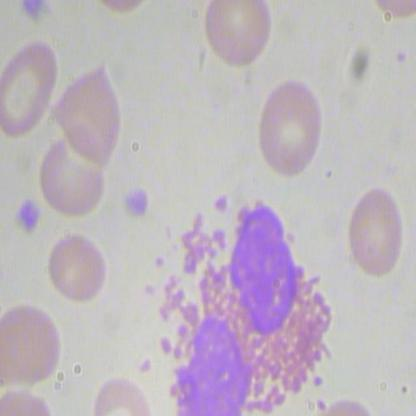Platelets: (12, 196, 46, 236), (118, 185, 151, 219), (20, 1, 47, 24)
RBC: (49, 58, 125, 159), (37, 120, 113, 220), (339, 180, 410, 284), (252, 80, 322, 184), (1, 300, 68, 393), (1, 36, 60, 140), (42, 229, 113, 304), (201, 1, 272, 75)
WBC: (146, 188, 345, 415)
